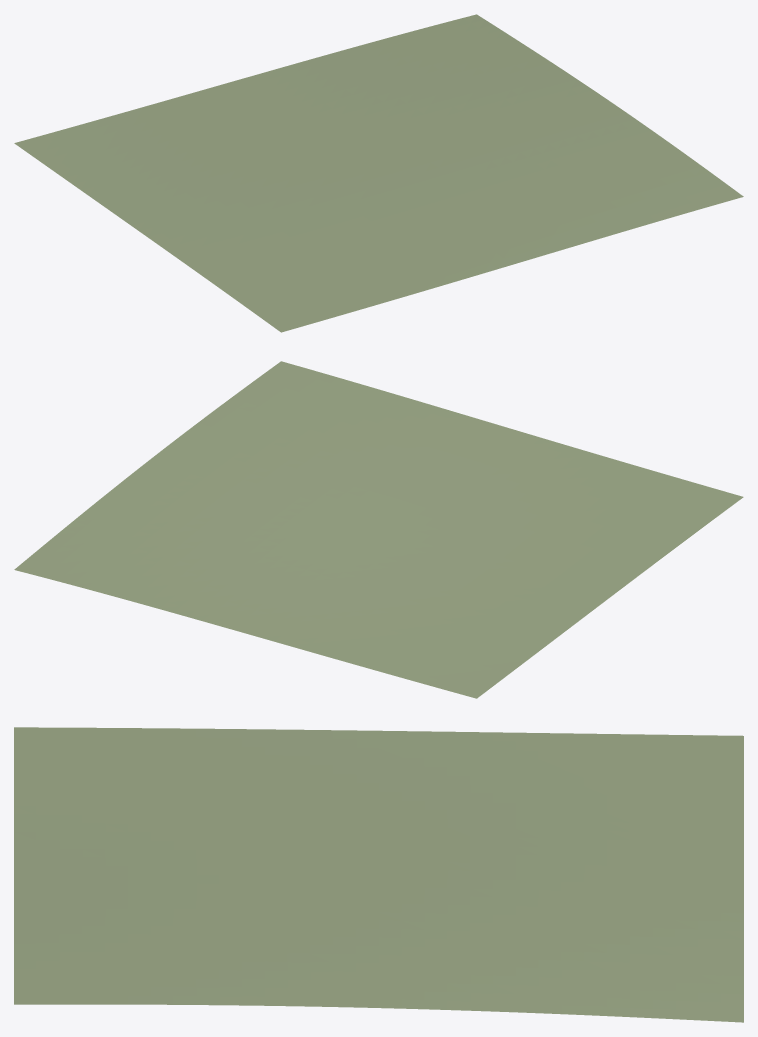
Rendered from desert-20-6.glb.
3 renders of one model, top to bottom at view 1: azimuth 30°, elevation 25°; view 2: azimuth 150°, elevation 25°; view 3: azimuth 270°, elevation 25°, orthographic. The views are drawn at different scales.
Parts seen in each view (by area): view 1: desert-20-6; view 2: desert-20-6; view 3: desert-20-6.
Part boxes in pixels (x1=…): desert-20-6: x1=14, y1=14, x2=743, y2=332; desert-20-6: x1=14, y1=361, x2=743, y2=698; desert-20-6: x1=14, y1=727, x2=743, y2=1022.
Bounding box in the file's own units: 512 × 30.8 × 512.
